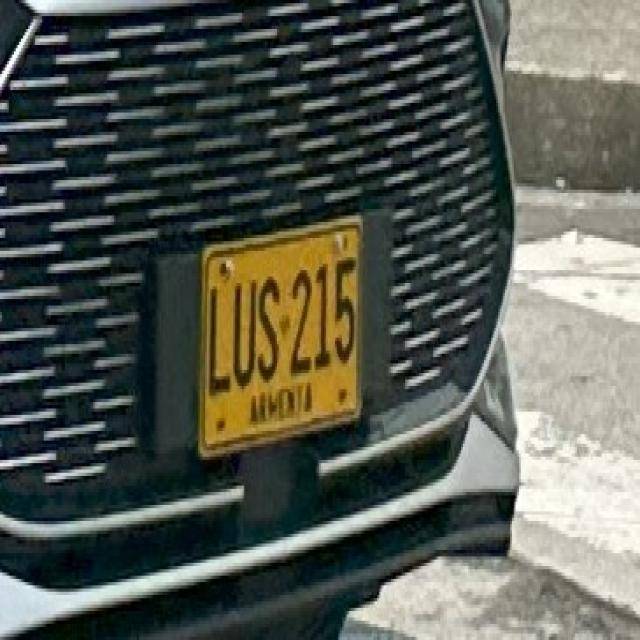number plate: (198, 212, 363, 457)
